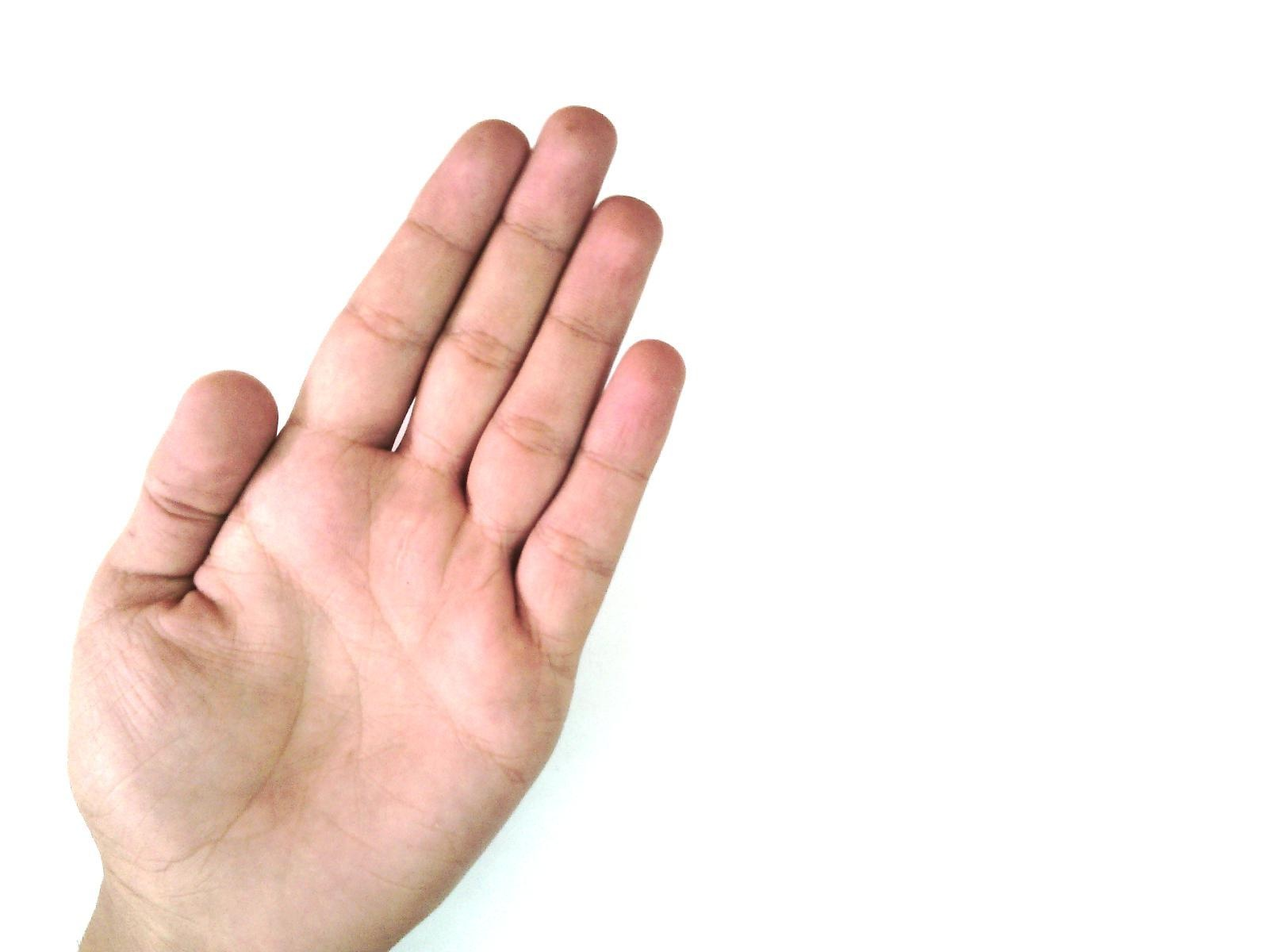open_palm: (64, 104, 689, 951)
